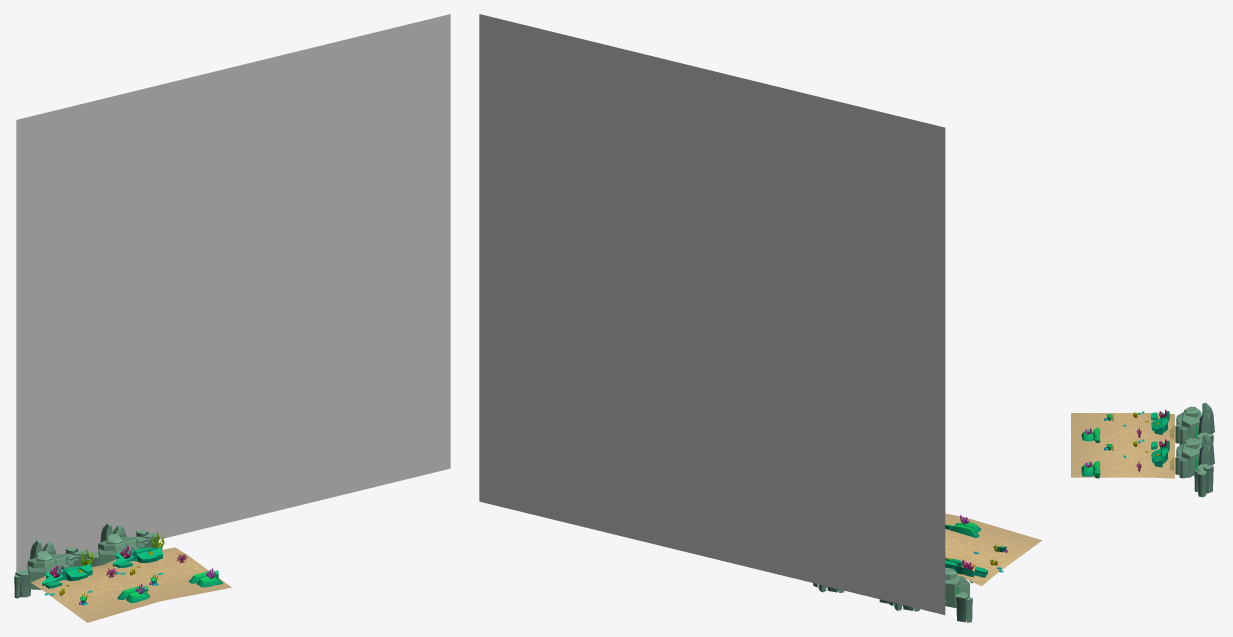
Rendered from Map_Black Pearl Ruin_Model.fbx.
3 renders of one model, left to right at view 1: azimuth 30°, elevation 25°; view 2: azimuth 150°, elevation 25°; view 3: azimuth 270°, elevation 25°, orthographic. The views are drawn at different scales.
Visible parts, largest first — view 1: back ground004, object003, surface001; view 2: back ground004, surface001, object003; view 3: surface001, object003.
Part boxes in pixels (x1,y1,x2,y2): back ground004: (16,14,450,571); object003: (14,523,223,605); surface001: (31,547,231,622); back ground004: (479,14,945,614); surface001: (945,513,1041,586); object003: (813,515,1007,622); surface001: (1071,413,1174,478); object003: (1081,402,1214,497).
Bounding box in the file's own units: 10505 × 10458 × 3285.
